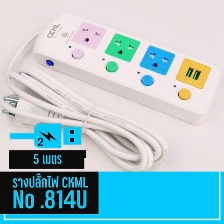three_eye_plug: (27, 7, 223, 131)
